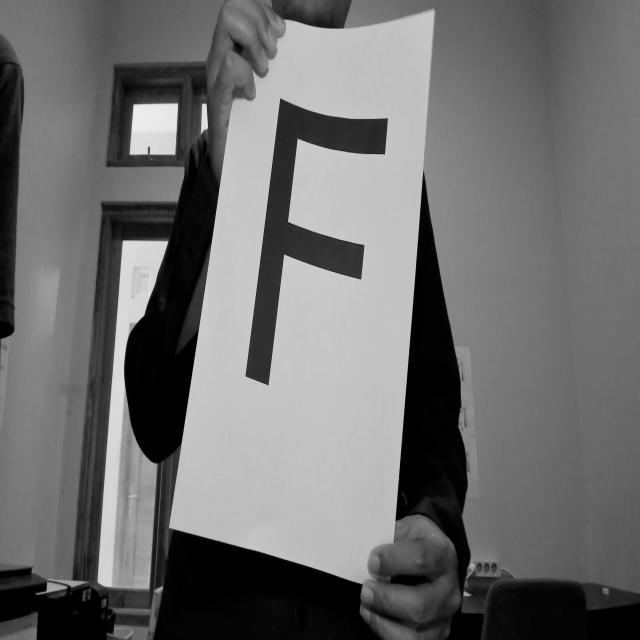f: (238, 81, 403, 415)
